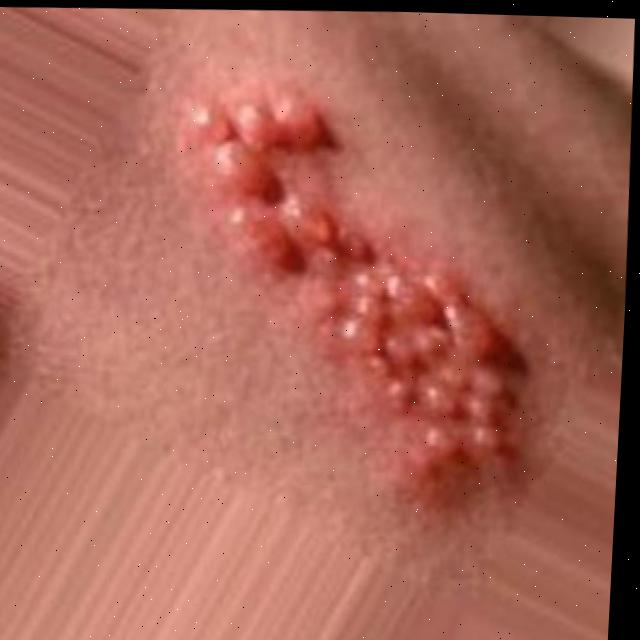Shingles: (176, 75, 530, 487)
